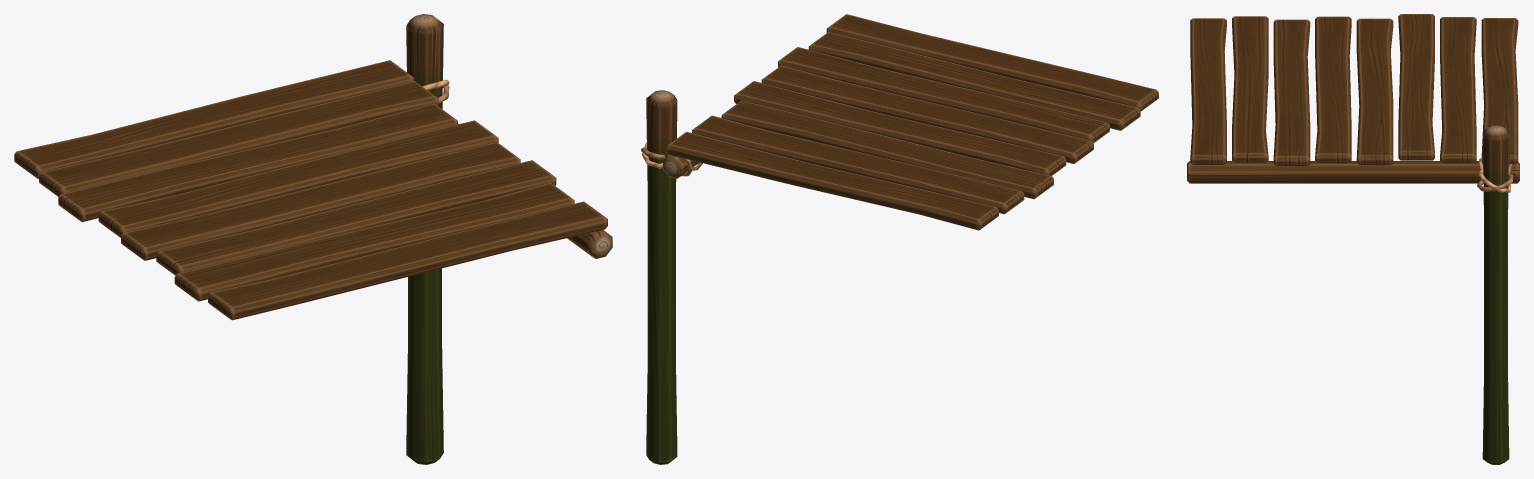
The model's file is Corner_right.1.fbx.
The picture shows the model from 3 angles, left to right: view 1: azimuth 30°, elevation 25°; view 2: azimuth 150°, elevation 25°; view 3: azimuth 270°, elevation 25°; orthographic projection. The views are drawn at different scales.
Visible parts, largest first — view 1: Corner_right.1; view 2: Corner_right.1; view 3: Corner_right.1.
Boxes of the visible parts, x1,y1,x2,y2 form: Corner_right.1: (14,14,612,464); Corner_right.1: (641,14,1158,464); Corner_right.1: (1187,14,1519,464).
Size of the model in its own units: 225 by 220 by 200.
